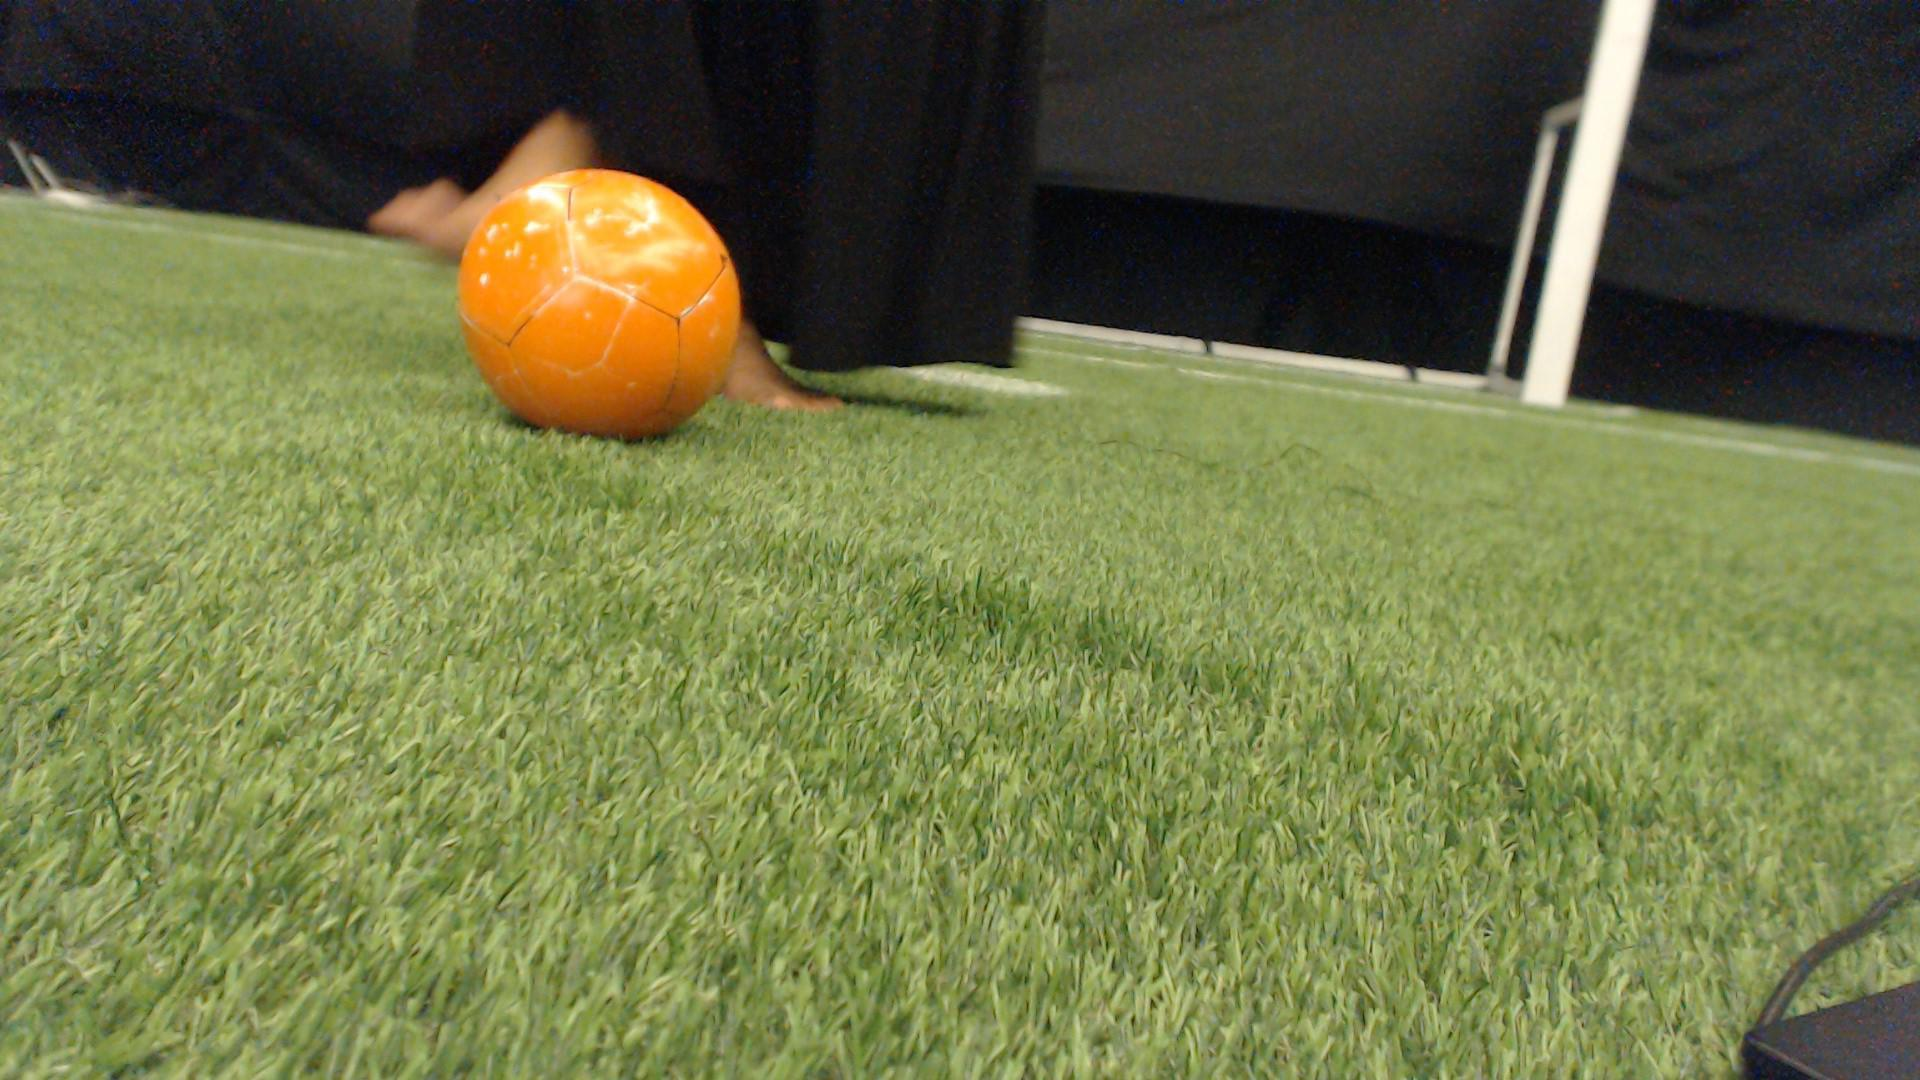bola: (444, 152, 762, 465)
